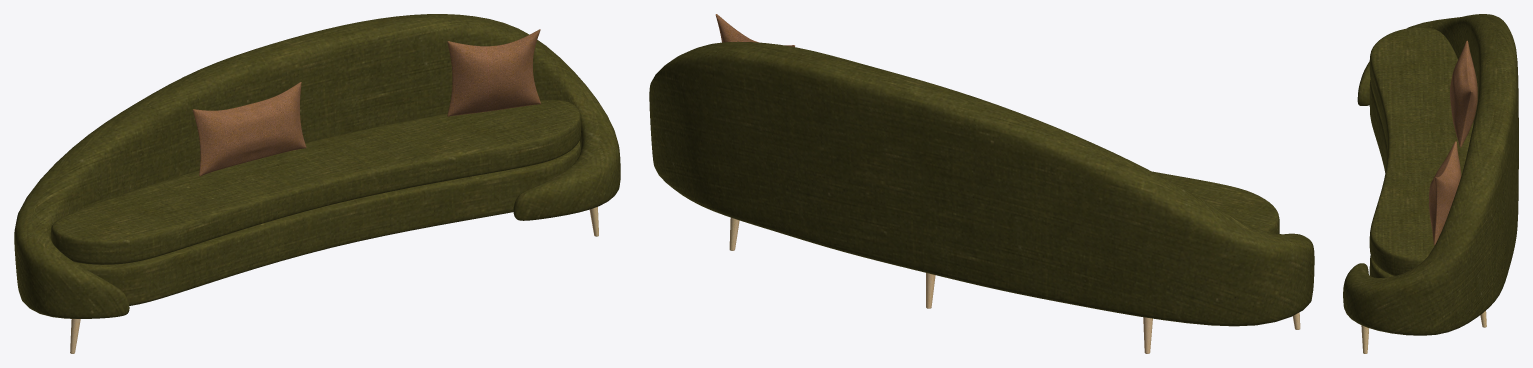
File: sofa_03.glb
The picture shows the model from 3 angles, left to right: view 1: azimuth 30°, elevation 25°; view 2: azimuth 150°, elevation 25°; view 3: azimuth 270°, elevation 25°; orthographic projection. The views are drawn at different scales.
Parts seen in each view (by area): view 1: Sofa Body_Sofa_03_0, Pillow_Big_Sofa_03_0, Pillow_Small_Sofa_03_0; view 2: Sofa Body_Sofa_03_0; view 3: Sofa Body_Sofa_03_0, Pillow_Big_Sofa_03_0, Pillow_Small_Sofa_03_0.
Boxes of the visible parts, x1,y1,x2,y2 form: Sofa Body_Sofa_03_0: (14, 14, 620, 353); Pillow_Big_Sofa_03_0: (192, 82, 306, 176); Pillow_Small_Sofa_03_0: (447, 29, 540, 116); Sofa Body_Sofa_03_0: (649, 41, 1314, 353); Sofa Body_Sofa_03_0: (1343, 14, 1518, 353); Pillow_Big_Sofa_03_0: (1450, 40, 1477, 147); Pillow_Small_Sofa_03_0: (1429, 141, 1461, 245).
Size of the model in its own units: 2.69 by 0.8703 by 0.7663.
1 material, 1 textured.
